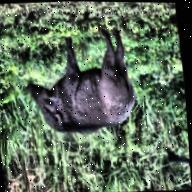boar: (18, 20, 149, 149)
